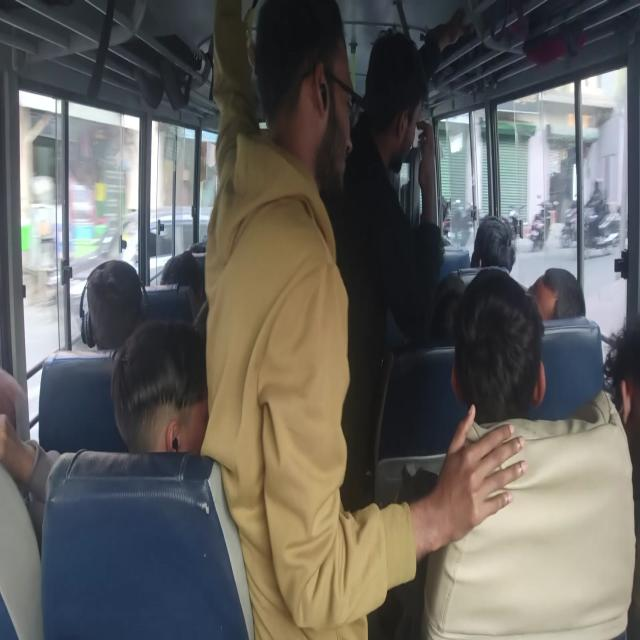person: (62, 244, 242, 409), (430, 289, 592, 436), (242, 14, 362, 198), (127, 318, 208, 486), (0, 369, 56, 507), (541, 270, 583, 344), (609, 326, 639, 419), (466, 198, 504, 263), (373, 66, 417, 121), (184, 211, 208, 275), (164, 239, 190, 277)
